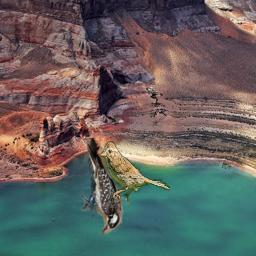Sparrow: (101, 141, 170, 205)
Woodpecker: (77, 138, 124, 236)
